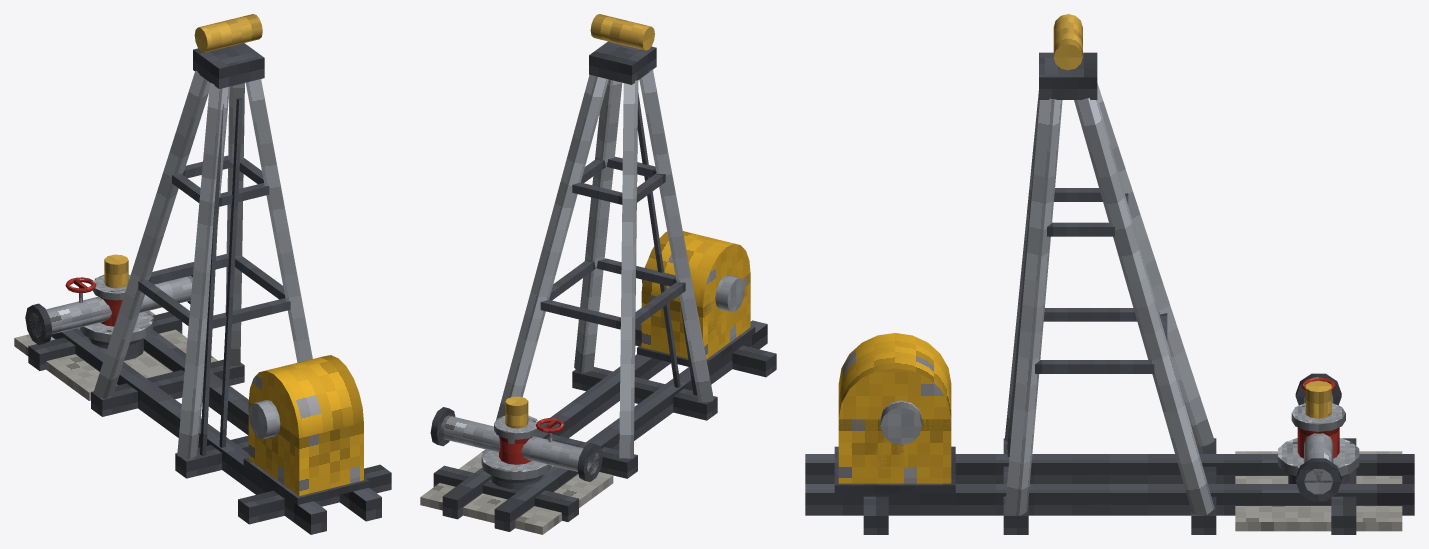
The model's file is pumpjack.obj.
3 views of the same model, side by side, from view 1: azimuth 30°, elevation 25°; view 2: azimuth 150°, elevation 25°; view 3: azimuth 270°, elevation 25° (orthographic). The views are drawn at different scales.
Bounding box in the file's own units: 1 × 2.47 × 2.92.
